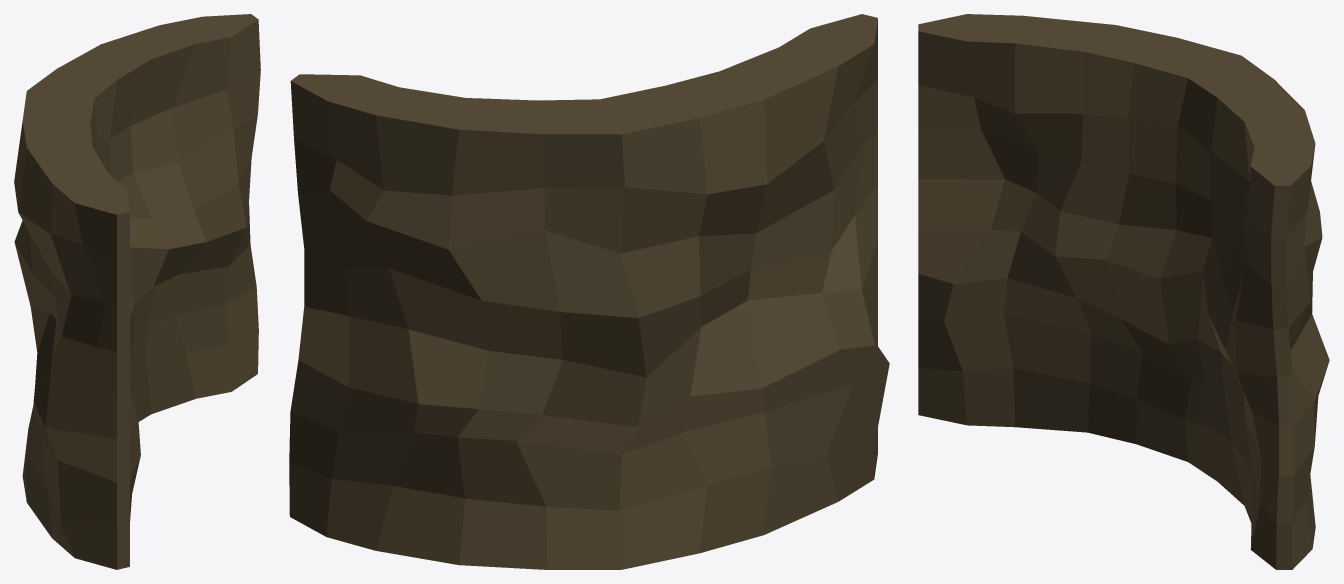
The model's file is BigCorner.1.fbx.
3 renders of one model, left to right at view 1: azimuth 30°, elevation 25°; view 2: azimuth 150°, elevation 25°; view 3: azimuth 270°, elevation 25°, orthographic. The views are drawn at different scales.
Parts seen in each view (by area): view 1: Big_Wall Corner.1; view 2: Big_Wall Corner.1; view 3: Big_Wall Corner.1.
Boxes of the visible parts, bbox=[...] form: Big_Wall Corner.1: bbox=[14, 14, 260, 569]; Big_Wall Corner.1: bbox=[289, 14, 889, 569]; Big_Wall Corner.1: bbox=[918, 14, 1329, 569].
Bounding box in the file's own units: 1311 × 1300 × 1263.
